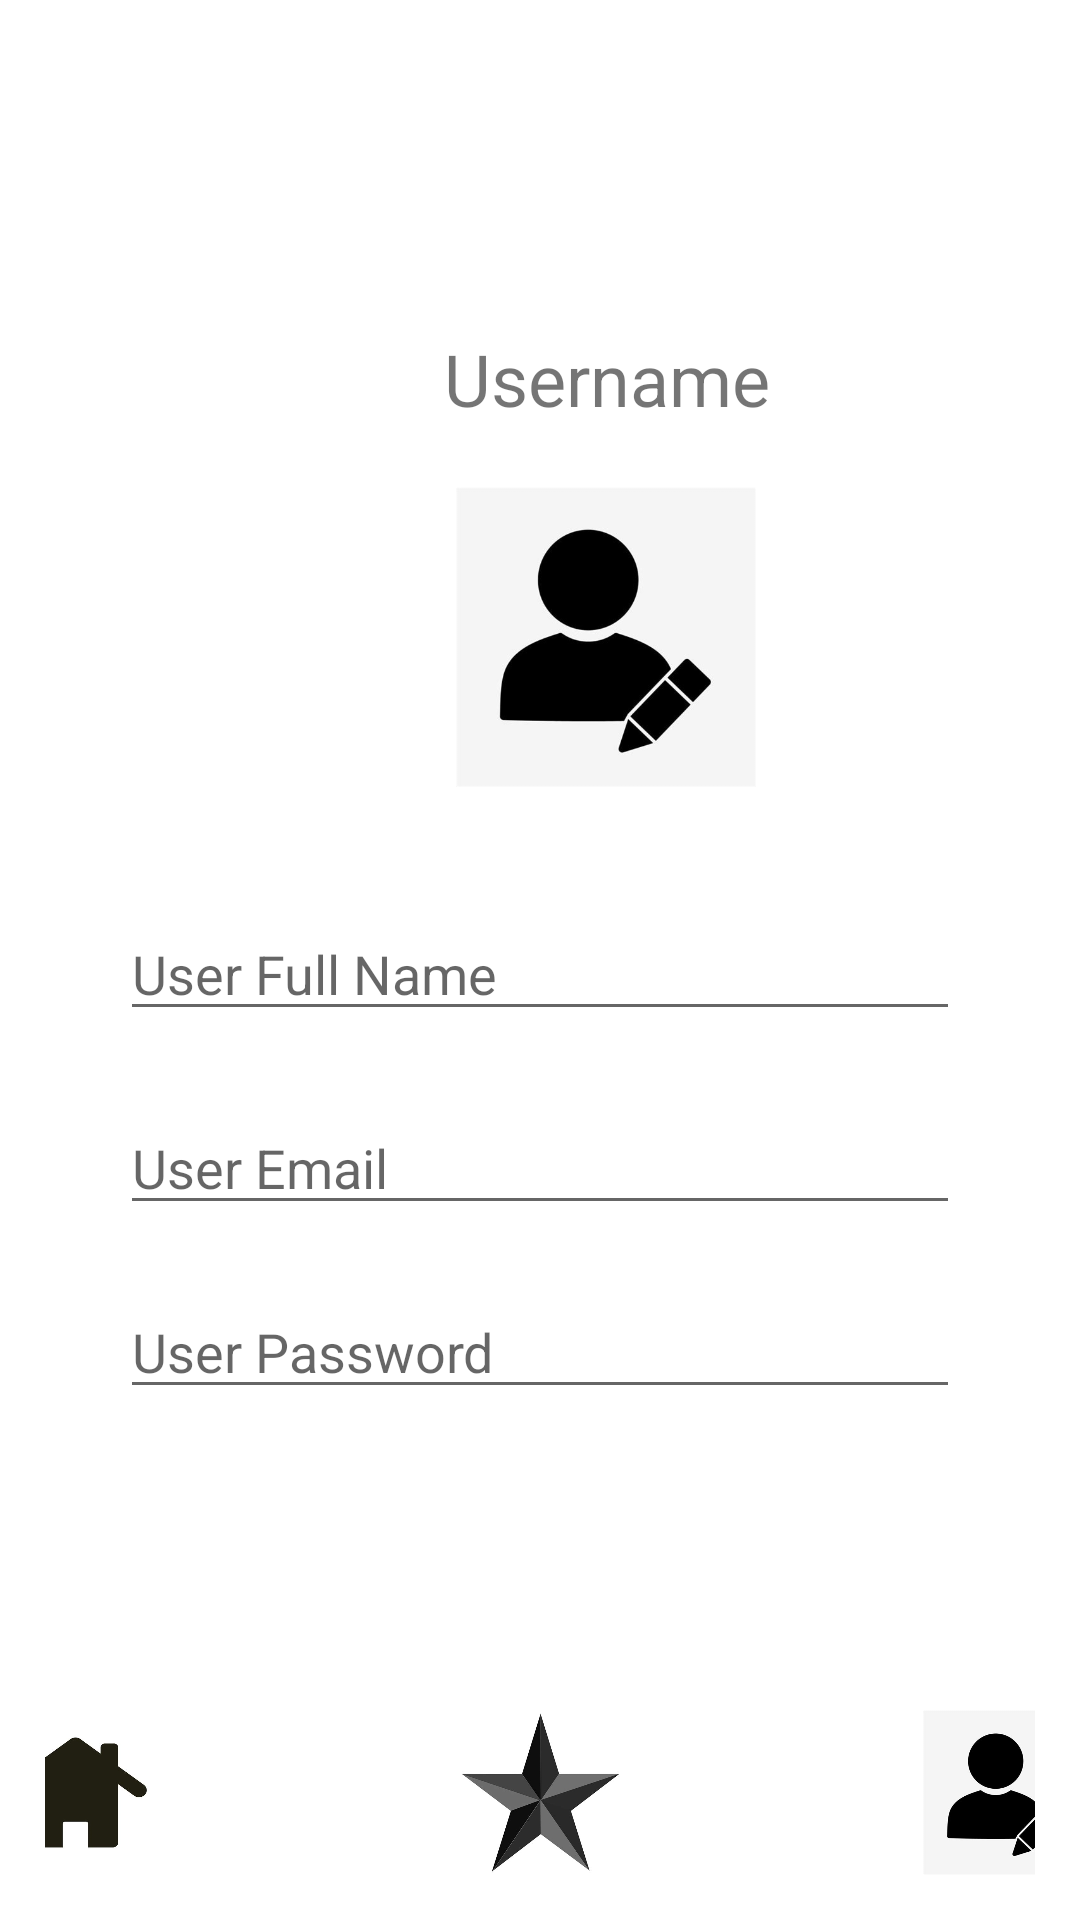

Where to tap for icons on this 1080px x 1920px app screen, as (x=x, y=y):
star: (x=540, y=1793)
